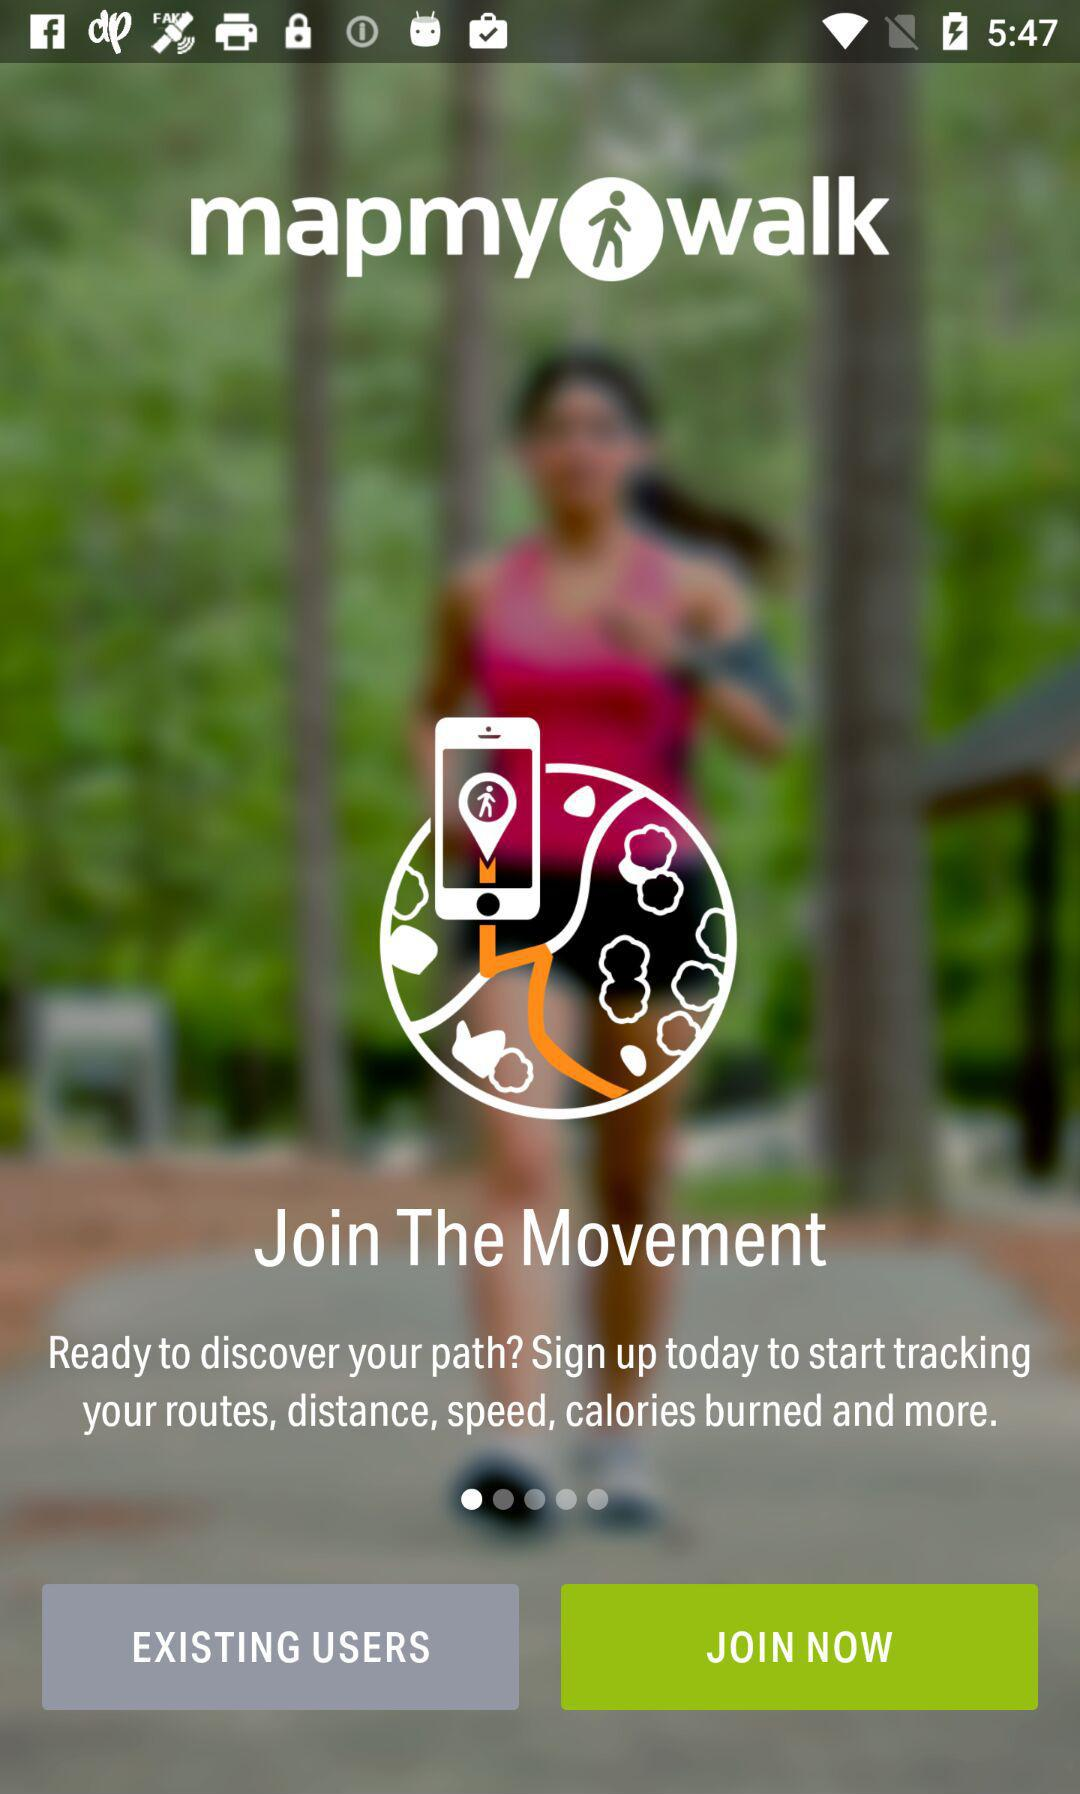BackgroundImage: (1, 64, 1080, 1794)
Image: (378, 716, 738, 1121), (190, 176, 890, 284)
PageIndicator: (459, 1486, 611, 1513)
Text: (49, 1334, 1033, 1436), (252, 1207, 831, 1271)
TextButton: (560, 1583, 1039, 1711), (42, 1583, 520, 1711)
UpperTaskBar: (1, 1, 1080, 64)
